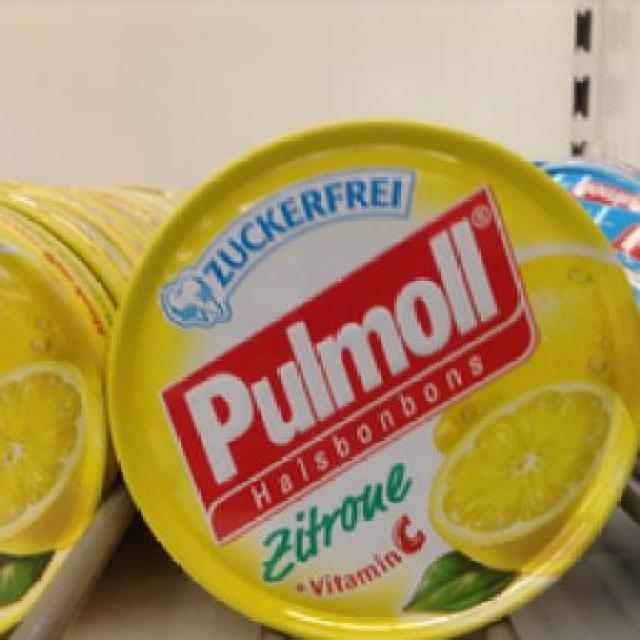Candy: (102, 116, 638, 630)
